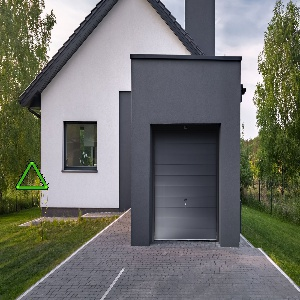triangle: (13, 160, 51, 193)
